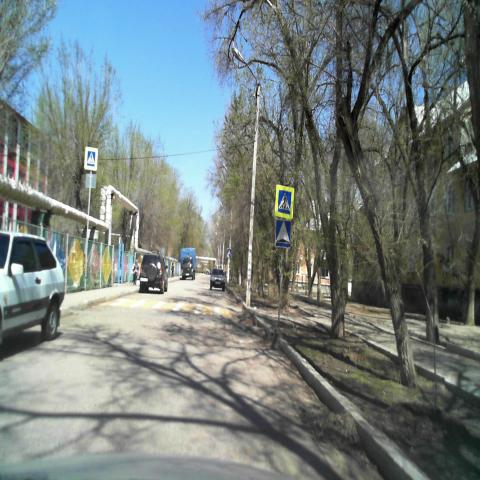5_19_1: (274, 186, 294, 220), (84, 145, 98, 173)
5_20: (274, 220, 292, 247)
